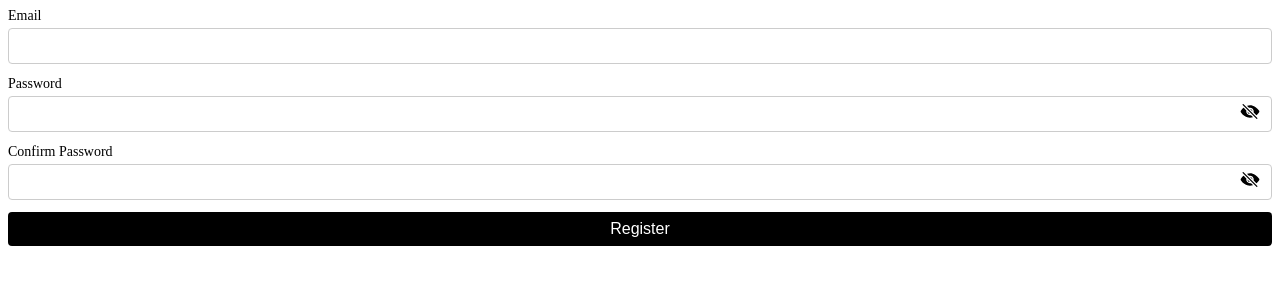
Test: RegisterForm › clears an earlier error when retrying
Type "reader@example.com" into the field labelled "Email" at {"x": 640, "y": 46}, box [8,28,1272,64]
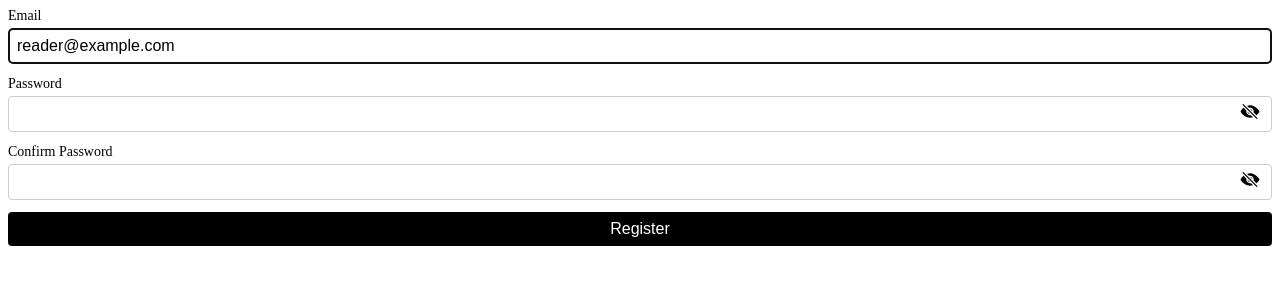
Type "password123" into the password field labelled "Password" at {"x": 640, "y": 114}, box [8,96,1272,132]
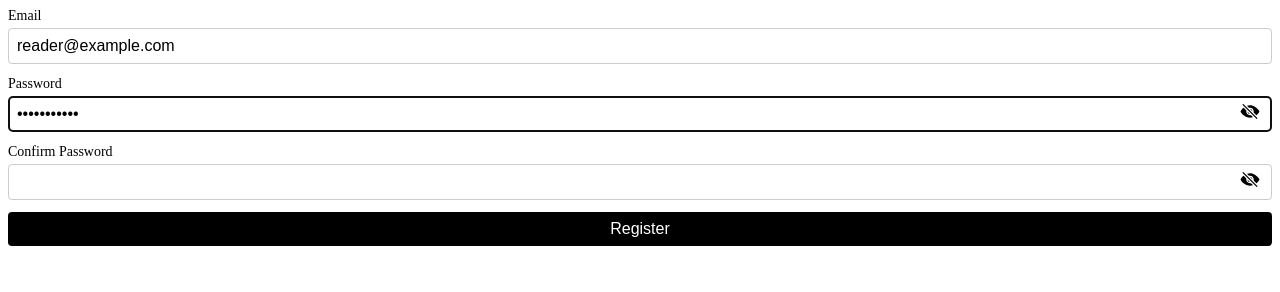
Type "password123" into the password field labelled "Confirm Password" at {"x": 640, "y": 182}, box [8,164,1272,200]
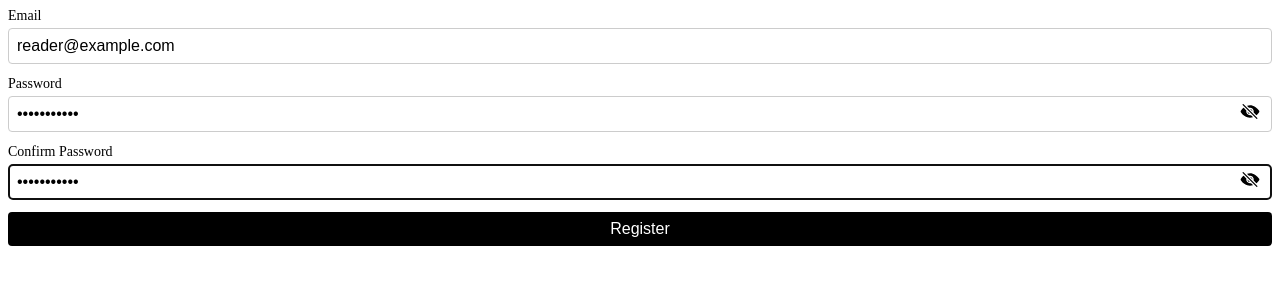
Click the button "Register" at {"x": 640, "y": 229}, box [8,212,1272,246]
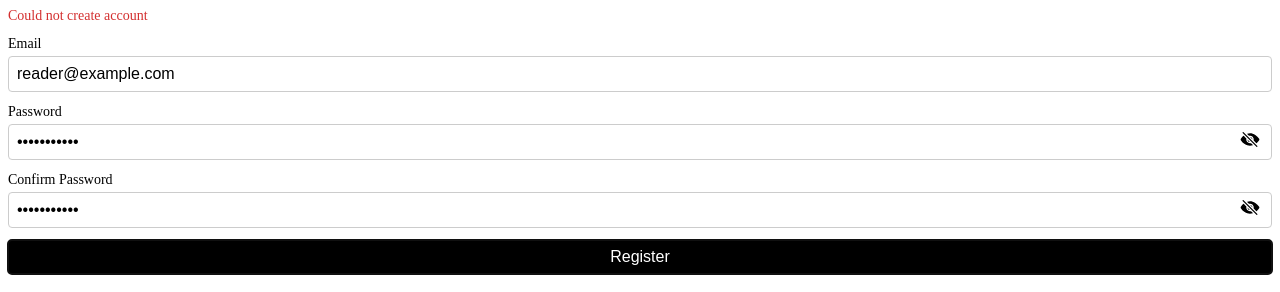
Result: the text "Could not create account" is shown at [8,8,148,23]
Click the button "Register" at {"x": 640, "y": 257}, box [8,240,1272,274]
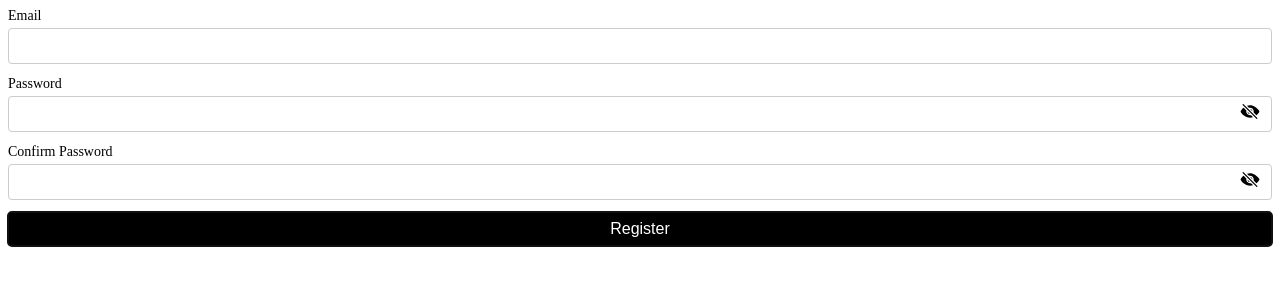
Result: the text "Could not create account" is gone
